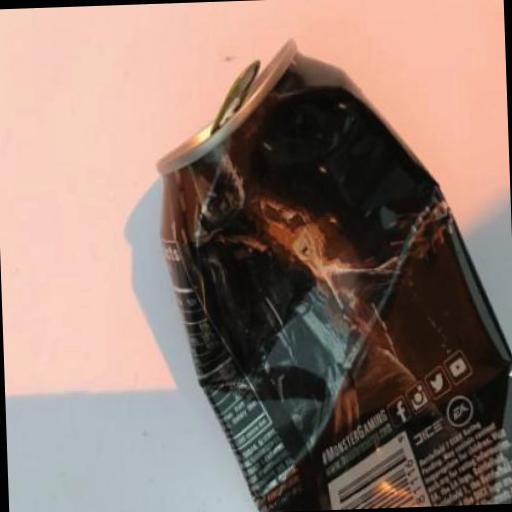metal: (151, 26, 512, 512)
